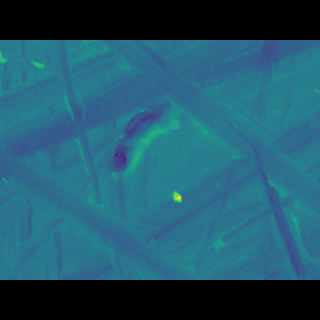Loch: (98, 66, 320, 203), (0, 155, 195, 251), (54, 69, 106, 194)
